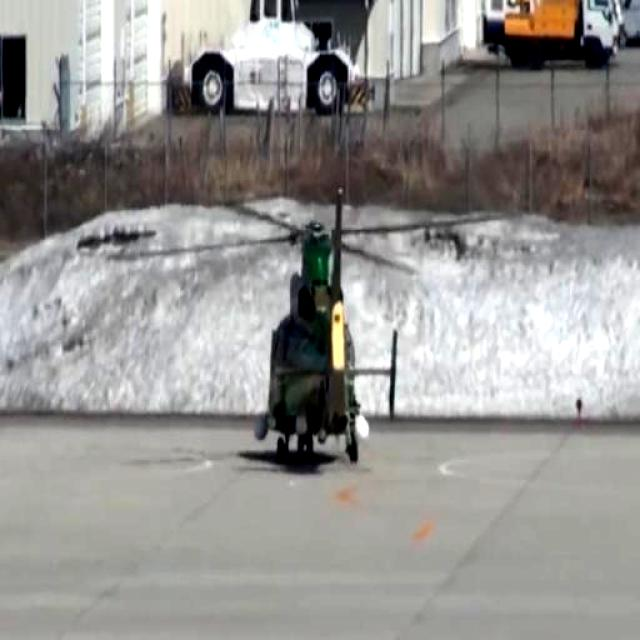drone: (224, 149, 406, 461)
